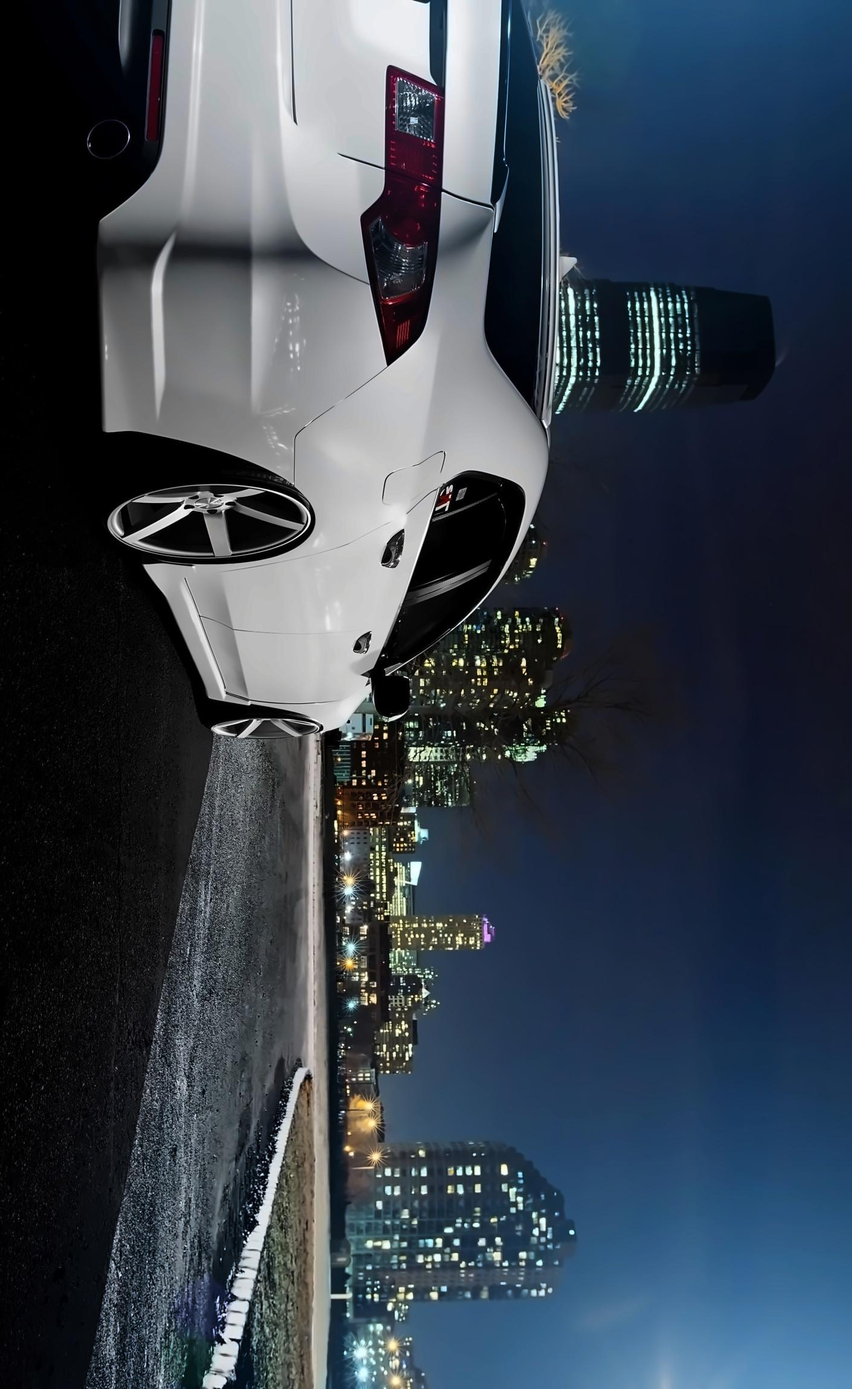Car boot: (283, 0, 524, 234)
Driver-s door - -F-R-: (177, 552, 517, 707)
Fender - -R-R-: (167, 311, 473, 578)
Passenger-s door - -R-R-: (176, 466, 534, 638)
Rear bumper: (82, 0, 389, 485)
Rear light - -R-: (354, 57, 450, 367)
Side bumper - -R-: (127, 552, 241, 715)
Side mirror - -R-: (350, 665, 428, 733)
